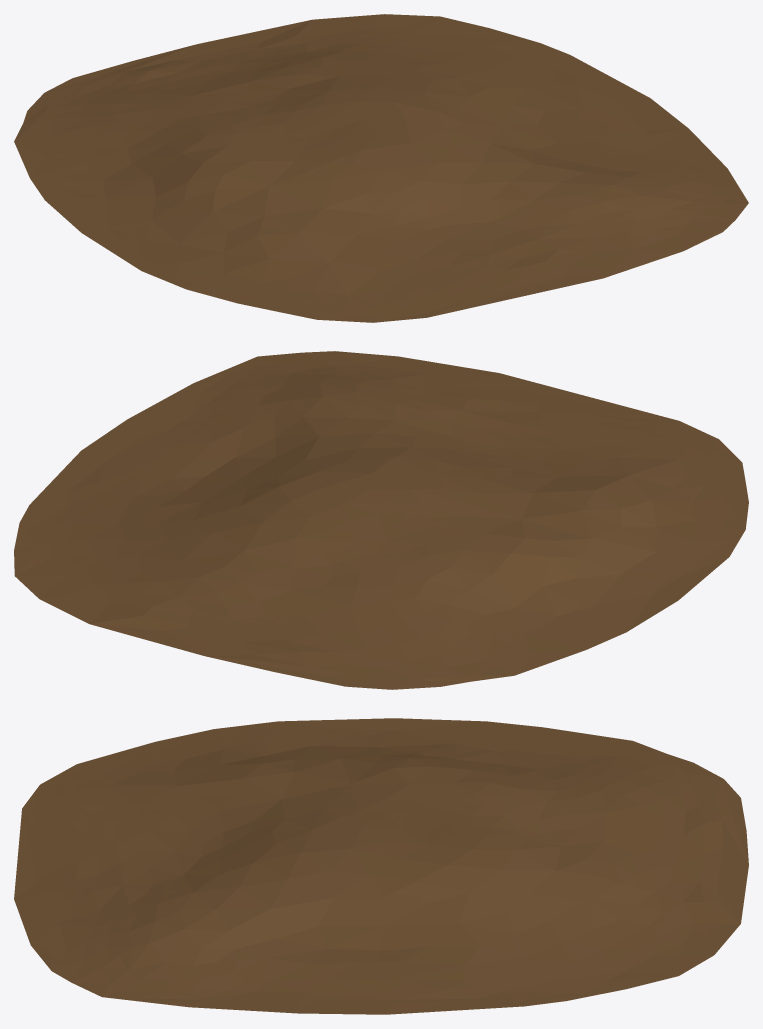
File: Mesh_Landscape_Hill_07.FBX
3 renders of one model, top to bottom at view 1: azimuth 30°, elevation 25°; view 2: azimuth 150°, elevation 25°; view 3: azimuth 270°, elevation 25°, orthographic. The views are drawn at different scales.
Parts seen in each view (by area): view 1: Mesh_Landscape_Hill_07; view 2: Mesh_Landscape_Hill_07; view 3: Mesh_Landscape_Hill_07.
Boxes of the visible parts, bbox=[...] form: Mesh_Landscape_Hill_07: bbox=[14, 14, 748, 322]; Mesh_Landscape_Hill_07: bbox=[14, 351, 748, 689]; Mesh_Landscape_Hill_07: bbox=[14, 718, 748, 1014].
Size of the model in its own units: 1887 by 1976 by 93.97.
